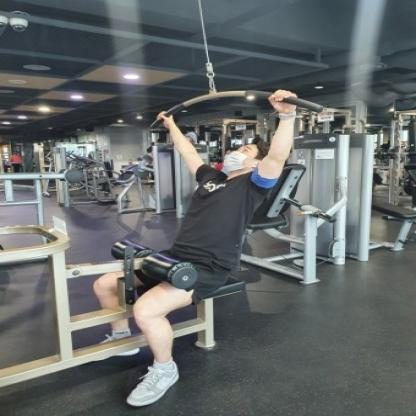Lat Pull Down: (0, 0, 341, 416)
